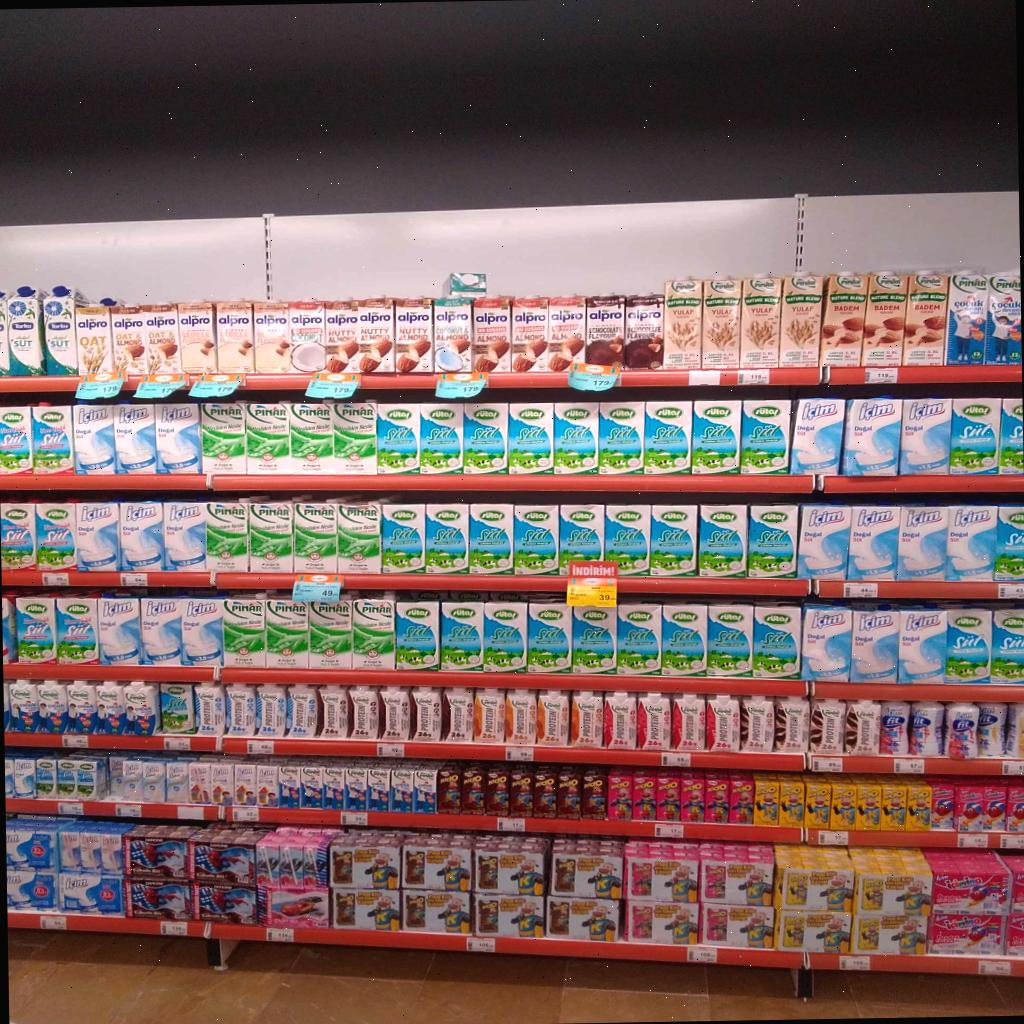price_tag: (567, 560, 618, 608), (569, 362, 620, 392), (76, 370, 126, 400), (306, 372, 360, 399), (436, 371, 488, 399), (293, 574, 343, 603), (189, 373, 244, 399), (134, 374, 188, 399), (808, 754, 842, 772), (688, 368, 720, 386), (838, 954, 870, 971), (978, 960, 1011, 976), (738, 369, 769, 386), (687, 946, 718, 963), (843, 583, 878, 598), (864, 368, 898, 383), (894, 758, 925, 774), (957, 834, 988, 849), (662, 752, 691, 768), (466, 937, 495, 953), (654, 824, 684, 839), (231, 806, 259, 822), (164, 736, 192, 751), (266, 928, 294, 943), (247, 740, 275, 755), (377, 743, 405, 758), (818, 831, 848, 845), (506, 746, 534, 761), (161, 921, 188, 936), (341, 811, 368, 826), (41, 915, 66, 931), (998, 583, 1023, 599), (497, 818, 525, 832), (120, 572, 148, 586), (177, 806, 205, 820), (58, 801, 85, 815), (62, 734, 88, 748), (116, 804, 142, 818), (42, 573, 70, 586), (1000, 835, 1023, 850), (1003, 760, 1023, 776)
product: (848, 847, 932, 918), (925, 849, 1011, 914), (773, 845, 854, 912), (840, 397, 901, 475), (699, 842, 773, 906), (623, 841, 699, 903), (549, 839, 623, 901), (191, 827, 264, 889), (329, 829, 403, 889), (900, 271, 947, 364), (401, 833, 473, 893), (474, 839, 549, 896), (846, 504, 901, 581), (821, 273, 866, 365), (797, 504, 852, 579), (790, 398, 844, 474), (779, 273, 823, 366), (898, 397, 951, 474), (862, 272, 906, 364), (256, 831, 328, 887), (801, 603, 852, 681), (59, 820, 132, 874), (946, 504, 997, 581), (124, 825, 194, 881), (849, 605, 899, 683), (897, 605, 946, 684), (5, 818, 78, 871), (943, 607, 993, 684), (739, 400, 790, 475), (950, 397, 999, 475), (690, 399, 740, 474), (897, 505, 947, 580), (739, 276, 780, 366), (701, 276, 741, 368), (947, 271, 987, 363), (662, 278, 702, 368), (697, 504, 747, 576), (747, 505, 797, 577), (545, 895, 620, 942), (43, 286, 83, 374), (245, 401, 293, 474), (644, 399, 691, 473), (753, 605, 800, 679), (926, 910, 1005, 954), (290, 401, 338, 473), (200, 399, 246, 473), (650, 504, 697, 576), (7, 286, 45, 375), (598, 401, 643, 475), (247, 500, 293, 572), (661, 603, 707, 675), (706, 604, 752, 676), (850, 913, 927, 956), (777, 909, 852, 953), (401, 888, 471, 935), (204, 499, 249, 572), (624, 900, 697, 945), (699, 903, 772, 948), (558, 503, 604, 574), (553, 400, 597, 474), (75, 502, 122, 571), (985, 274, 1021, 364), (264, 598, 310, 668), (508, 401, 552, 474), (140, 597, 187, 665), (155, 402, 200, 473), (292, 501, 337, 572), (513, 503, 558, 574), (222, 596, 267, 667), (616, 603, 661, 674), (331, 885, 400, 931), (376, 402, 420, 474), (463, 402, 507, 474), (474, 893, 544, 938), (381, 503, 425, 574), (469, 503, 513, 574), (605, 504, 649, 575), (527, 602, 571, 673), (119, 501, 164, 570), (333, 401, 376, 473), (395, 600, 439, 670), (98, 597, 143, 665), (570, 605, 615, 673), (309, 598, 352, 669), (352, 598, 395, 669), (483, 601, 526, 672), (582, 294, 624, 366), (337, 501, 379, 573), (440, 601, 483, 671), (623, 293, 663, 368), (73, 402, 115, 473), (113, 402, 155, 473), (420, 403, 462, 474), (394, 296, 433, 372), (163, 501, 205, 571), (426, 503, 468, 573), (257, 885, 327, 927), (181, 597, 223, 666), (472, 296, 510, 372), (547, 295, 585, 371), (433, 297, 472, 371), (177, 301, 217, 373), (31, 405, 73, 473), (511, 297, 549, 372), (57, 872, 123, 915), (357, 296, 394, 372), (15, 596, 56, 664), (34, 503, 75, 570), (124, 879, 191, 920), (56, 597, 96, 664), (143, 303, 181, 373), (990, 606, 1024, 684), (253, 302, 290, 373), (75, 304, 113, 373), (289, 300, 325, 372), (216, 301, 252, 372), (110, 304, 147, 373), (325, 299, 359, 372), (194, 884, 255, 924), (993, 505, 1024, 581), (0, 503, 34, 570), (0, 407, 32, 475), (6, 867, 56, 910), (809, 698, 845, 753), (671, 693, 705, 751), (705, 694, 739, 752), (775, 695, 809, 752), (845, 699, 880, 754), (998, 397, 1023, 474), (603, 691, 636, 749), (740, 696, 774, 752), (945, 702, 979, 758), (125, 681, 160, 735), (909, 701, 944, 755), (569, 690, 602, 747), (637, 692, 670, 749), (286, 683, 320, 738), (378, 685, 411, 741), (506, 687, 538, 744), (160, 682, 195, 733), (348, 685, 380, 740), (473, 688, 505, 743), (410, 686, 441, 742), (442, 687, 473, 742), (537, 690, 568, 745), (976, 701, 1007, 756), (195, 682, 226, 736), (255, 683, 286, 737), (879, 701, 910, 754), (319, 687, 351, 738), (38, 680, 68, 733), (226, 683, 256, 736), (68, 680, 97, 733), (97, 681, 126, 734), (10, 681, 39, 732), (803, 774, 830, 828), (927, 776, 954, 830), (954, 782, 983, 832), (679, 769, 705, 822), (753, 772, 779, 825), (778, 773, 804, 826), (1001, 854, 1024, 913), (113, 756, 143, 801), (854, 780, 881, 830), (728, 772, 754, 823), (607, 767, 632, 820), (75, 758, 107, 799), (484, 765, 509, 816), (905, 780, 930, 831), (632, 767, 656, 819), (704, 771, 728, 823), (981, 783, 1007, 831), (581, 770, 606, 819), (830, 781, 855, 830), (656, 770, 680, 821), (390, 764, 415, 812), (557, 768, 581, 818), (188, 761, 215, 805), (461, 765, 485, 814), (880, 786, 906, 830), (437, 766, 461, 813), (413, 766, 436, 813), (509, 769, 532, 816), (210, 760, 234, 805), (344, 764, 367, 810), (534, 769, 556, 817), (366, 766, 389, 811), (256, 764, 280, 807), (300, 765, 323, 809), (322, 765, 345, 809), (234, 763, 258, 805), (1006, 702, 1024, 757), (166, 759, 189, 802), (1005, 782, 1024, 832), (143, 759, 165, 802), (279, 765, 300, 808), (36, 756, 58, 797), (14, 757, 36, 797), (0, 291, 10, 376), (56, 757, 76, 799), (1005, 912, 1024, 956), (4, 756, 15, 797)
